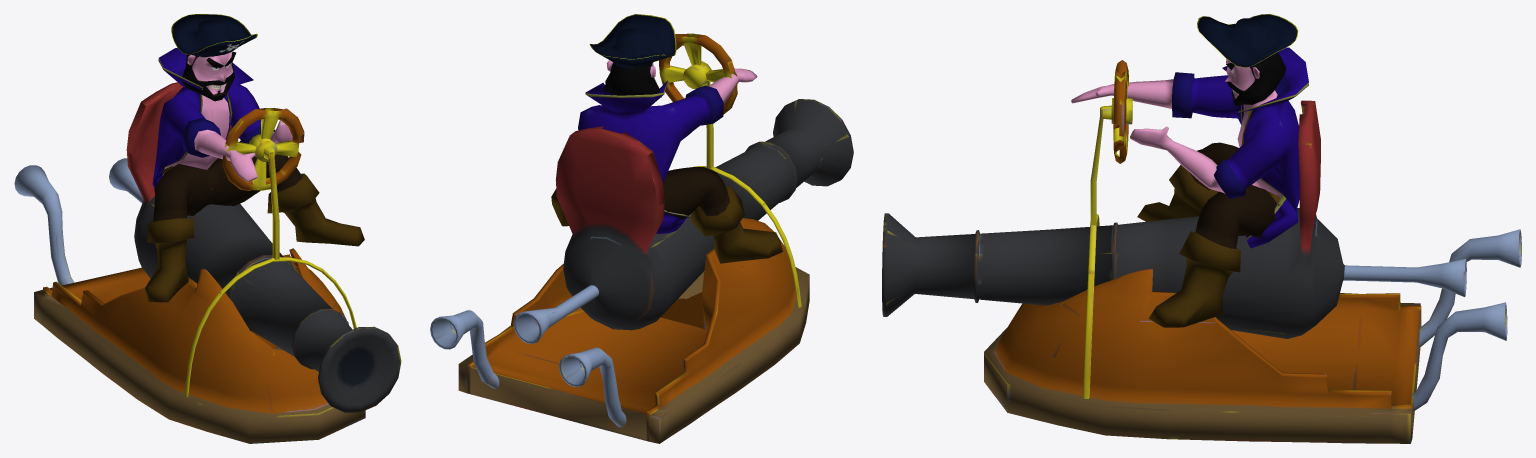
File: pirataLanzamiento_000651.obj
3 renders of one model, left to right at view 1: azimuth 30°, elevation 25°; view 2: azimuth 150°, elevation 25°; view 3: azimuth 270°, elevation 25°, orthographic. The views are drawn at different scales.
Parts seen in each view (by area): view 1: carro_pirata_carro_pirata.001, Pirata_PirataH; view 2: carro_pirata_carro_pirata.001, Pirata_PirataH; view 3: carro_pirata_carro_pirata.001, Pirata_PirataH.
Boxes of the visible parts, x1,y1,x2,y2 form: carro_pirata_carro_pirata.001: [14, 82, 401, 443]; Pirata_PirataH: [145, 14, 364, 302]; carro_pirata_carro_pirata.001: [430, 33, 853, 443]; Pirata_PirataH: [551, 14, 782, 263]; carro_pirata_carro_pirata.001: [882, 60, 1521, 443]; Pirata_PirataH: [1071, 14, 1308, 327].
Size of the model in its own units: 5.4 by 7.62 by 12.1.
